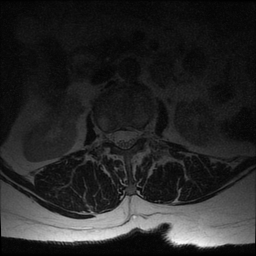CCS_normal: (120, 118, 129, 157)
LFS_normal: (139, 120, 146, 147)
LLS_normal: (129, 119, 139, 152)
RFS_normal: (103, 121, 112, 150)
RLS_normal: (111, 118, 120, 154)
